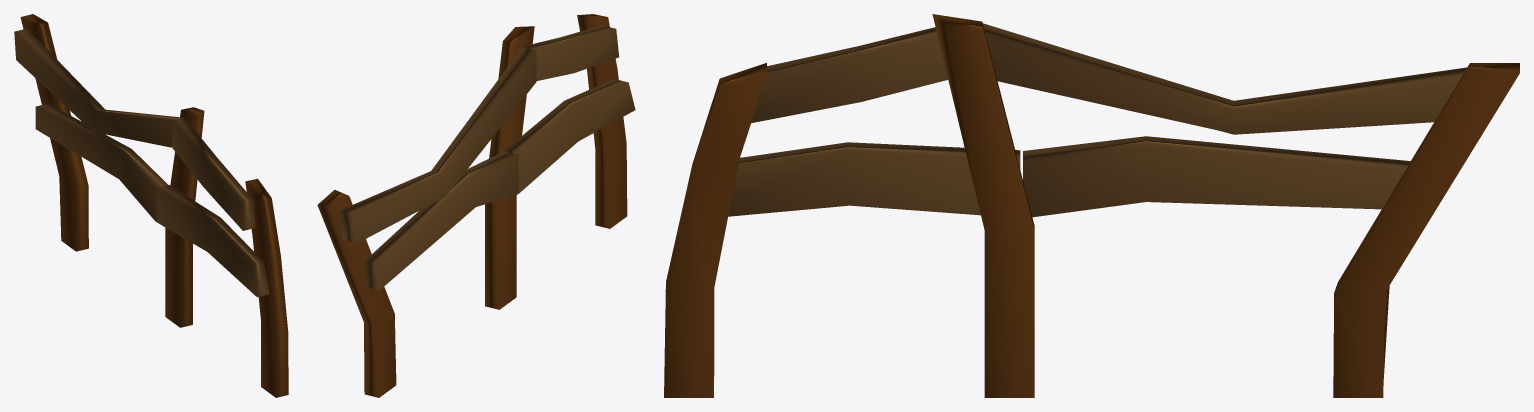
File: Valla1.fbx
3 views of the same model, side by side, from view 1: azimuth 30°, elevation 25°; view 2: azimuth 150°, elevation 25°; view 3: azimuth 270°, elevation 25° (orthographic). The views are drawn at different scales.
Parts seen in each view (by area): view 1: Tabla.022; view 2: Tabla.022; view 3: Tabla.022.
Part boxes in pixels (left/top/right/bottom): Tabla.022: left=14, top=14, right=288, bottom=397; Tabla.022: left=317, top=14, right=635, bottom=397; Tabla.022: left=664, top=14, right=1519, bottom=397.
Bounding box in the file's own units: 18.01 × 149 × 310.
